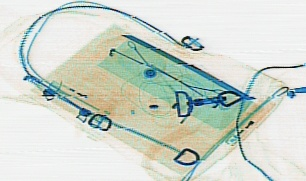lighter: (48, 78, 114, 116), (224, 96, 274, 146)
